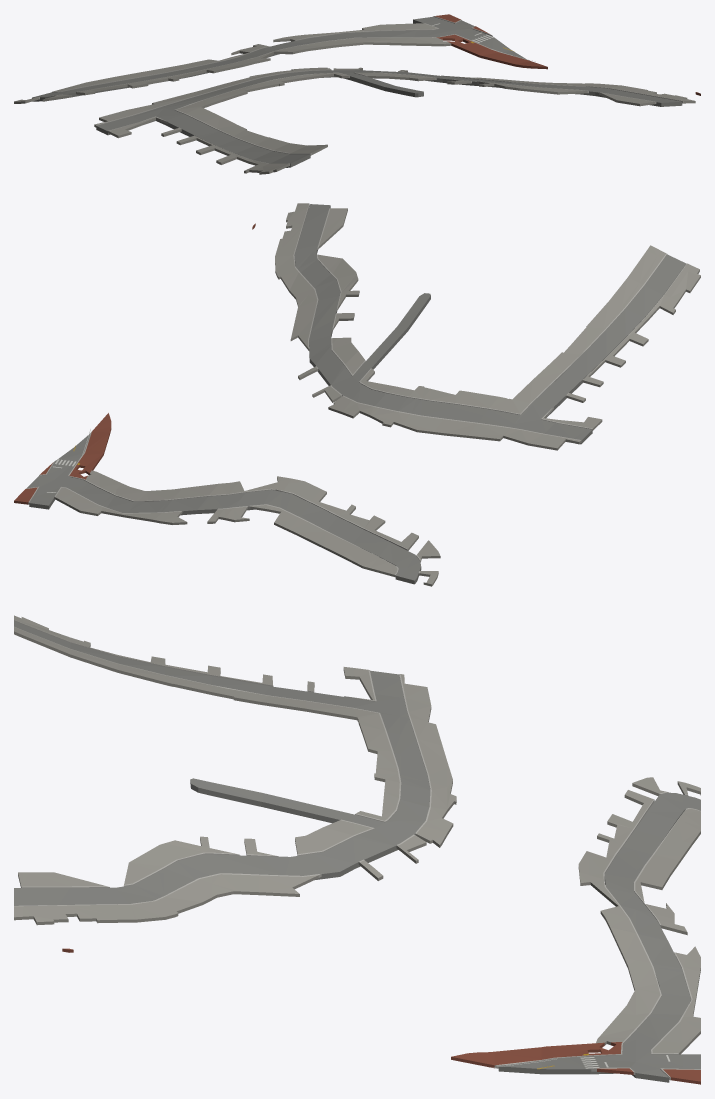
3 renders of one model, top to bottom at view 1: azimuth 30°, elevation 25°; view 2: azimuth 150°, elevation 25°; view 3: azimuth 270°, elevation 25°, orthographic. The views are drawn at different scales.
Size of the model in its own units: 148 by 49.34 by 146.
